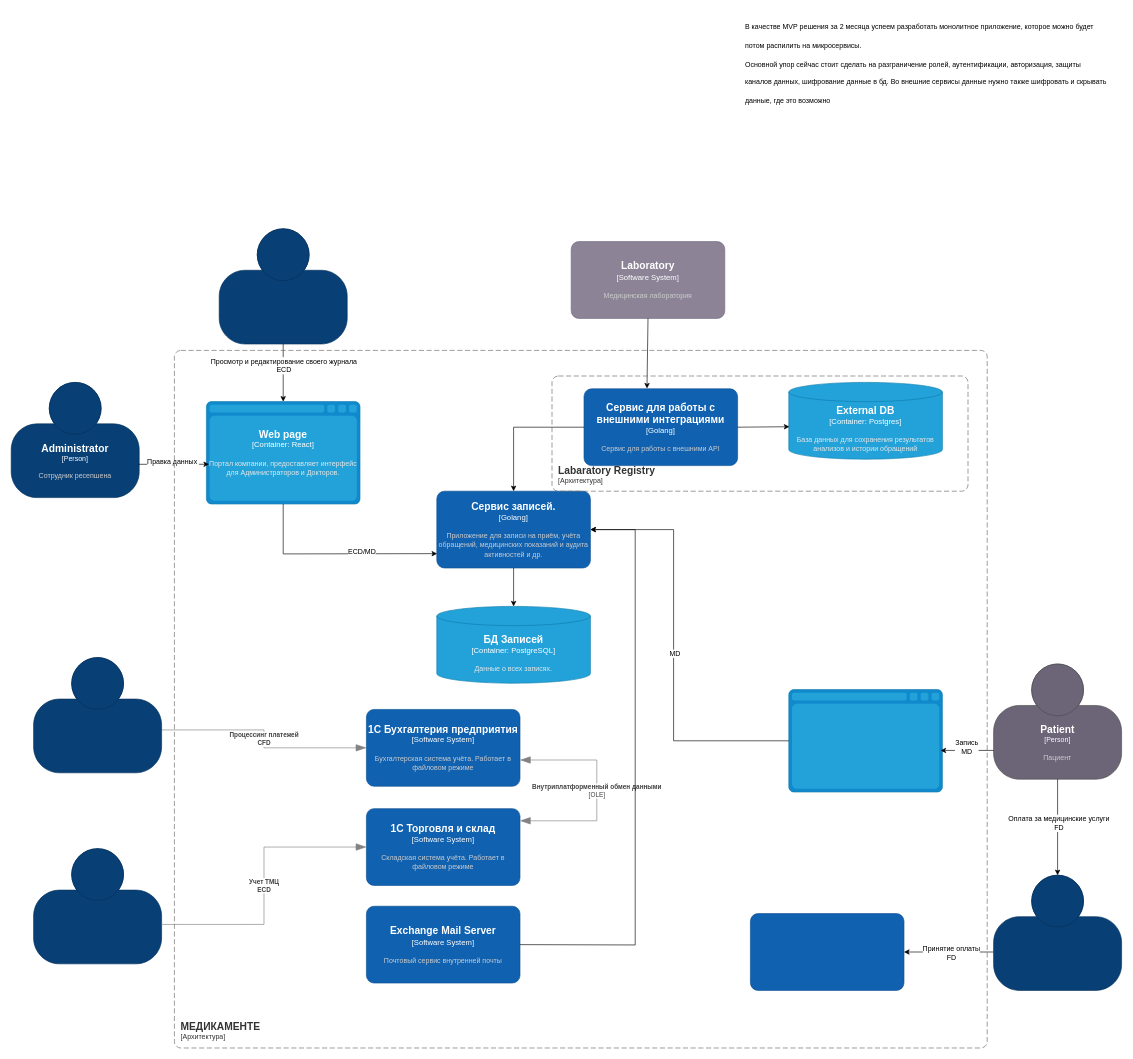
Some shapes in this 1133 by 1059 pixel diagram are drawn without their labels. Each missing label, with the centre of its shape:
Bookkeeper [Person] Бухгалтер: [97,715]
Cassier [Person] Кассир: [1057,932]
Doctor [Person] Специалист-медик: [283,286]
Warehouse keeper [Person] Сотрудник склада: [97,906]
Web page [Container: React] Портал компании для записи на прием.: [865,740]
ККМ [Software System] Контрольно-кассовая машина: [827,951]
